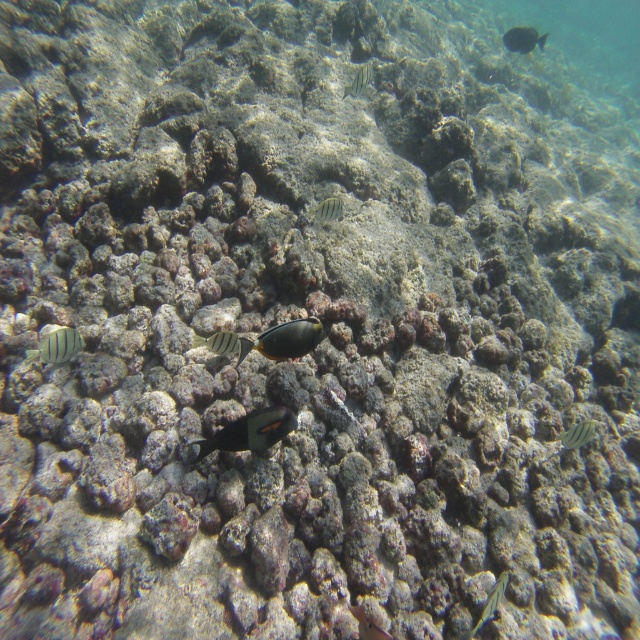Fish: (234, 313, 333, 375), (190, 404, 297, 456), (471, 567, 508, 639), (26, 329, 86, 364), (346, 603, 396, 639), (340, 59, 374, 99), (502, 24, 551, 51), (553, 421, 596, 451), (305, 195, 345, 221)
